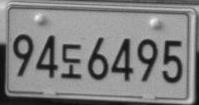4: (35, 34, 59, 78), (110, 37, 134, 81)
5: (161, 39, 184, 83)
6: (86, 36, 109, 80)
9: (136, 37, 158, 82), (11, 33, 34, 76)
도: (60, 43, 82, 79)
